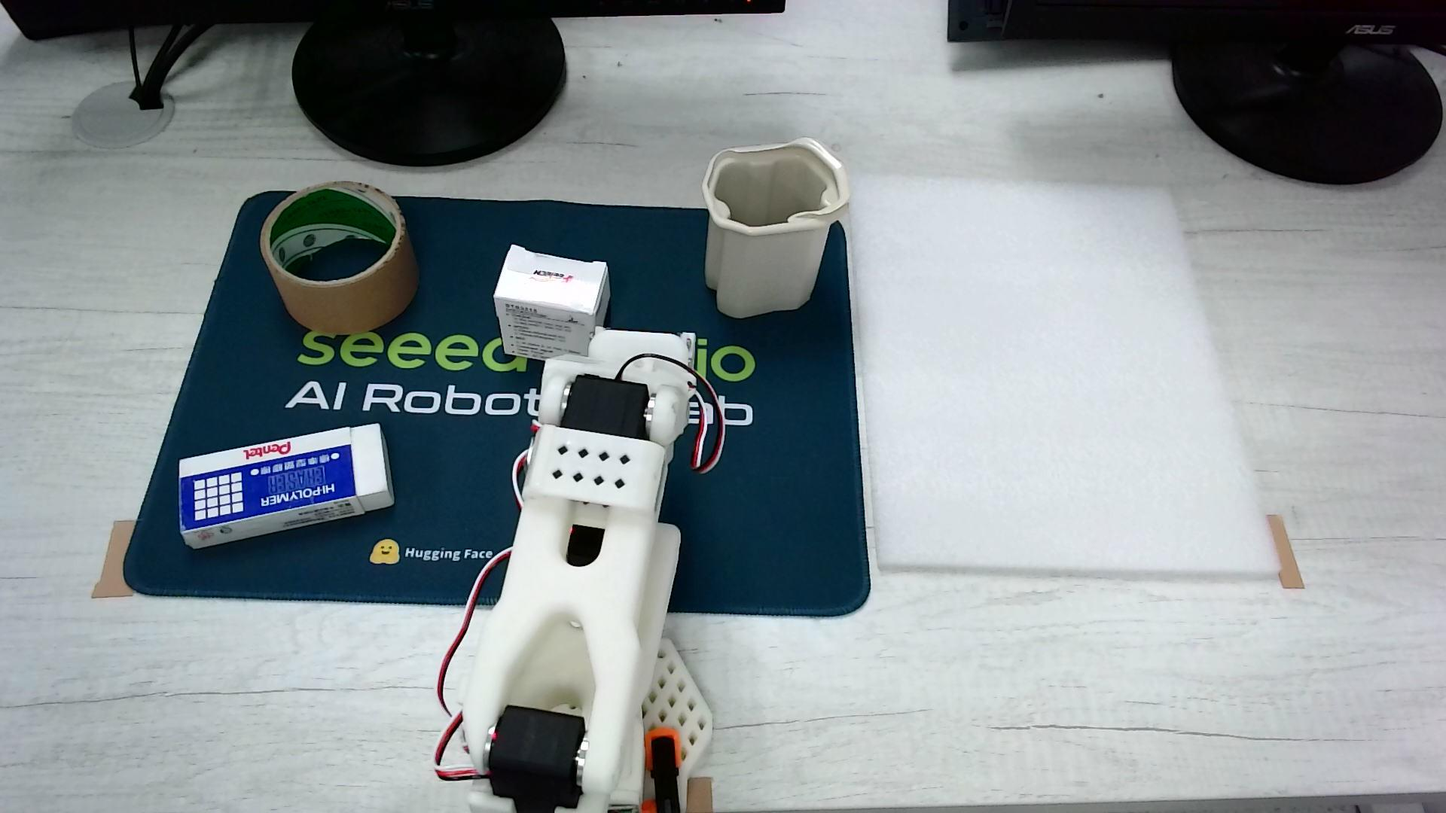eraser: (494, 244, 609, 360)
